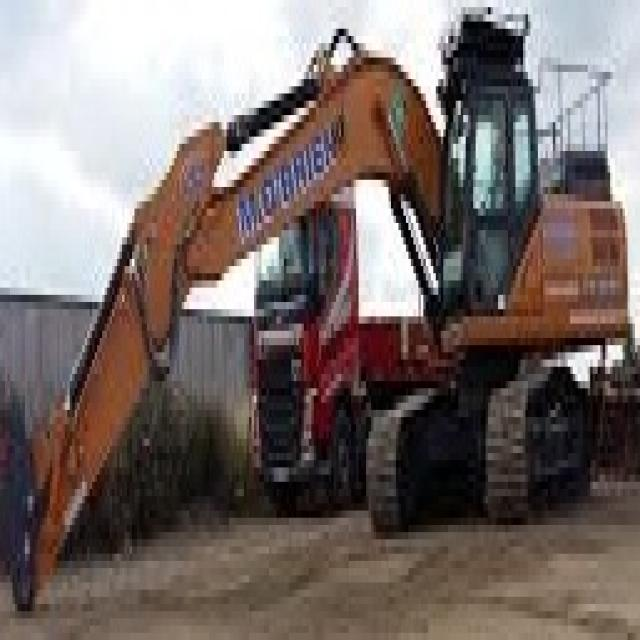excavator: (371, 12, 626, 525)
